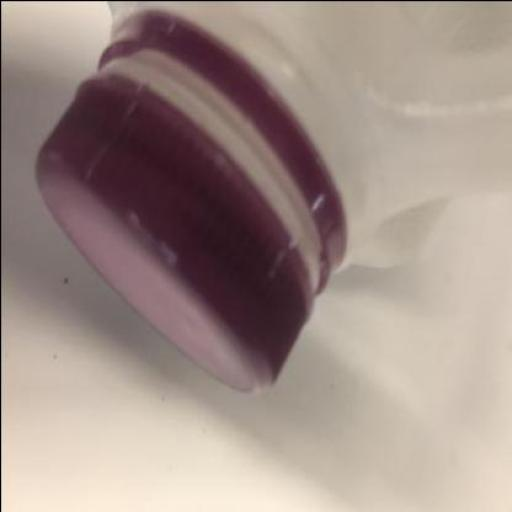plastic: (33, 1, 511, 398), (35, 14, 347, 396)
